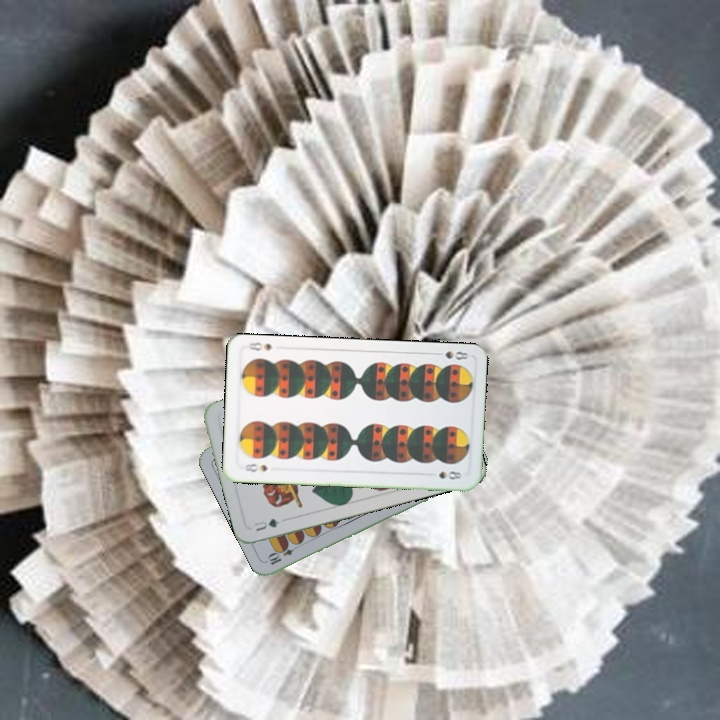E10: (264, 540, 302, 568)
GU: (250, 514, 282, 534)
S8: (430, 347, 470, 362), (237, 459, 270, 474)
